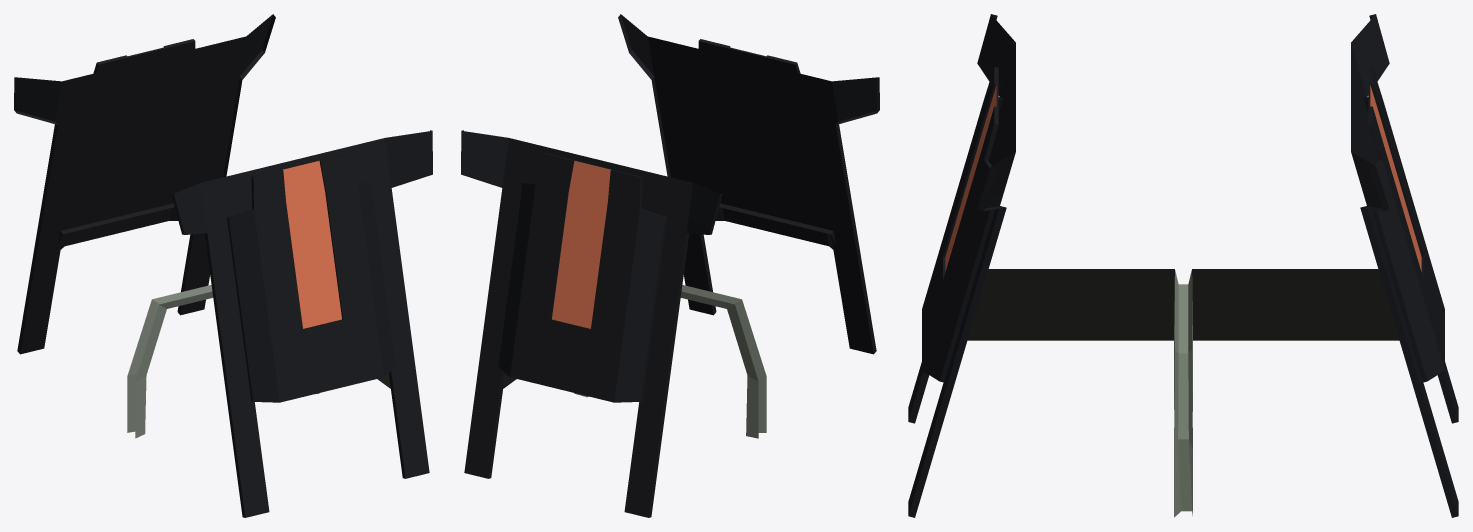
The model's file is Entrance.fbx.
The picture shows the model from 3 angles, left to right: view 1: azimuth 30°, elevation 25°; view 2: azimuth 150°, elevation 25°; view 3: azimuth 270°, elevation 25°; orthographic projection. The views are drawn at different scales.
Visible parts, largest first — view 1: Entrance; view 2: Entrance; view 3: Entrance.
Boxes of the visible parts, x1,y1,x2,y2 form: Entrance: [14, 14, 432, 517]; Entrance: [461, 14, 879, 517]; Entrance: [908, 14, 1458, 517].
Size of the model in its own units: 1072 by 1227 by 1636.
